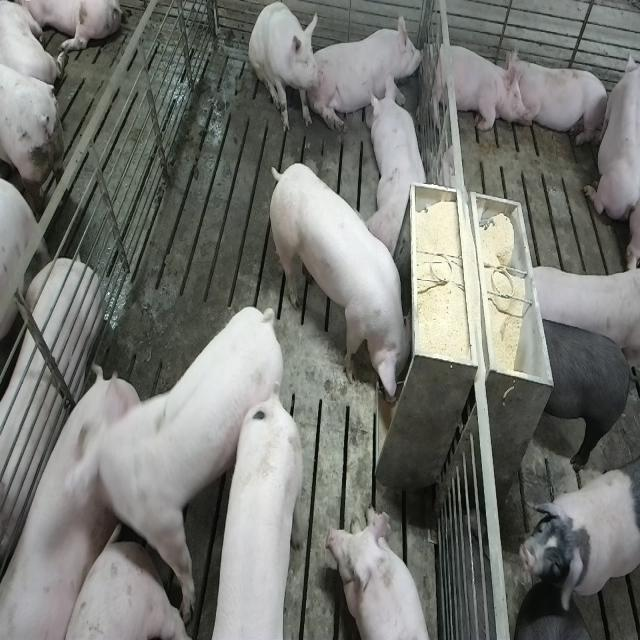Feeding: (272, 161, 420, 409)
Lateral_lying: (0, 365, 135, 640), (0, 258, 102, 593)
Sitting: (249, 1, 323, 136)
Standing: (75, 295, 285, 632), (215, 382, 306, 636), (518, 467, 638, 615), (536, 313, 638, 467), (523, 262, 638, 363)
Sternal_lying: (332, 503, 437, 640), (314, 9, 426, 135), (368, 76, 431, 259), (509, 50, 611, 150), (585, 40, 637, 224), (425, 36, 521, 134)
